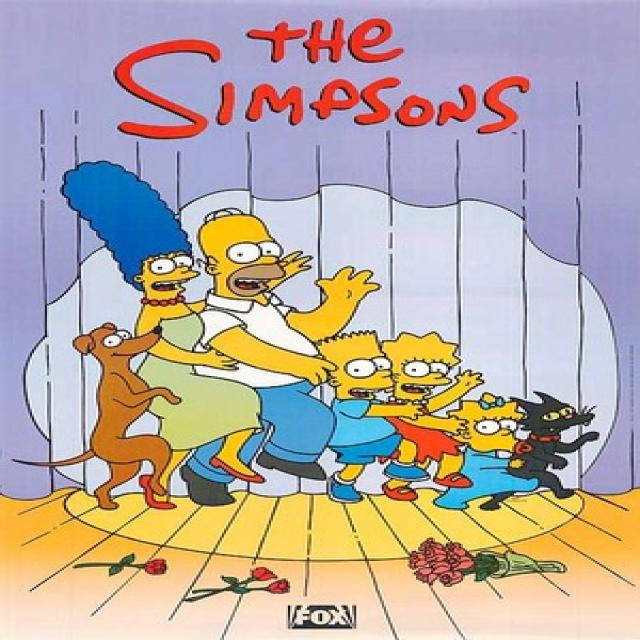Bart Simpson: (311, 325, 402, 404)
Homer Simpson: (192, 206, 290, 305)
Lisa Simpson: (378, 330, 467, 408)
Maggie Simpson: (444, 392, 542, 461)
Marge Simpson: (55, 158, 205, 310)
